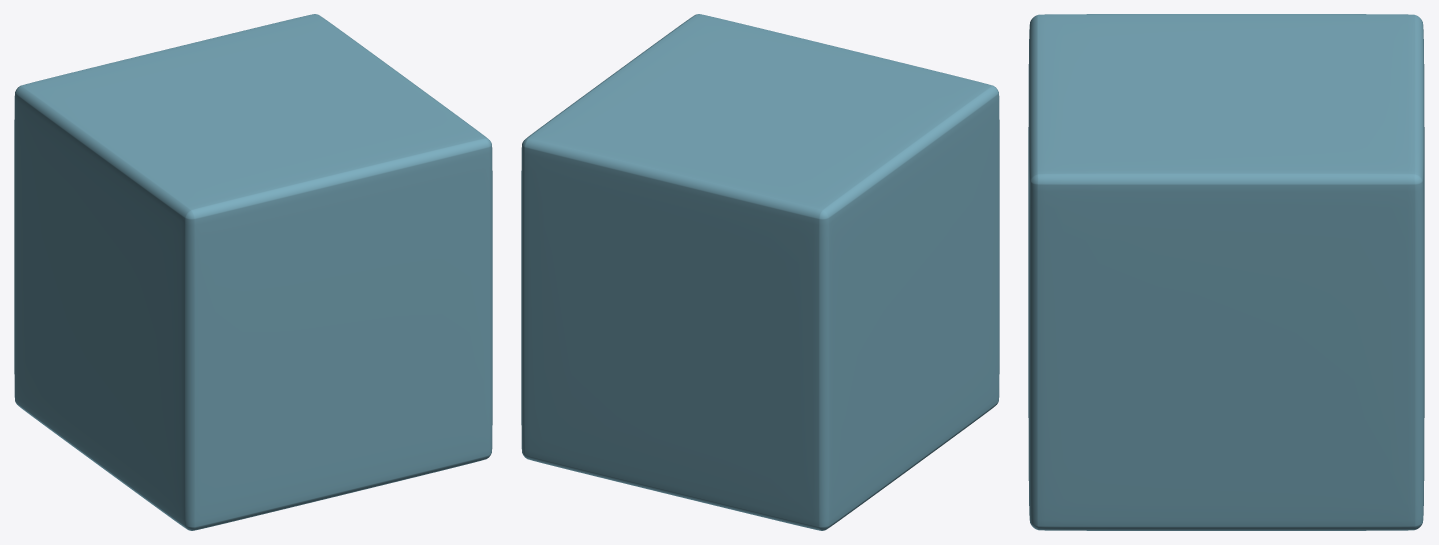
The model's file is Sc_001_morphCube_Ms.fbx.
3 renders of one model, left to right at view 1: azimuth 30°, elevation 25°; view 2: azimuth 150°, elevation 25°; view 3: azimuth 270°, elevation 25°, orthographic. The views are drawn at different scales.
Parts seen in each view (by area): view 1: Cubic_Cube_Closed; view 2: Cubic_Cube_Closed; view 3: Cubic_Cube_Closed.
Boxes of the visible parts, x1,y1,x2,y2 form: Cubic_Cube_Closed: (14, 14, 492, 530); Cubic_Cube_Closed: (521, 14, 999, 530); Cubic_Cube_Closed: (1028, 14, 1424, 530).
Bounding box in the file's own units: 10 × 10 × 10.
